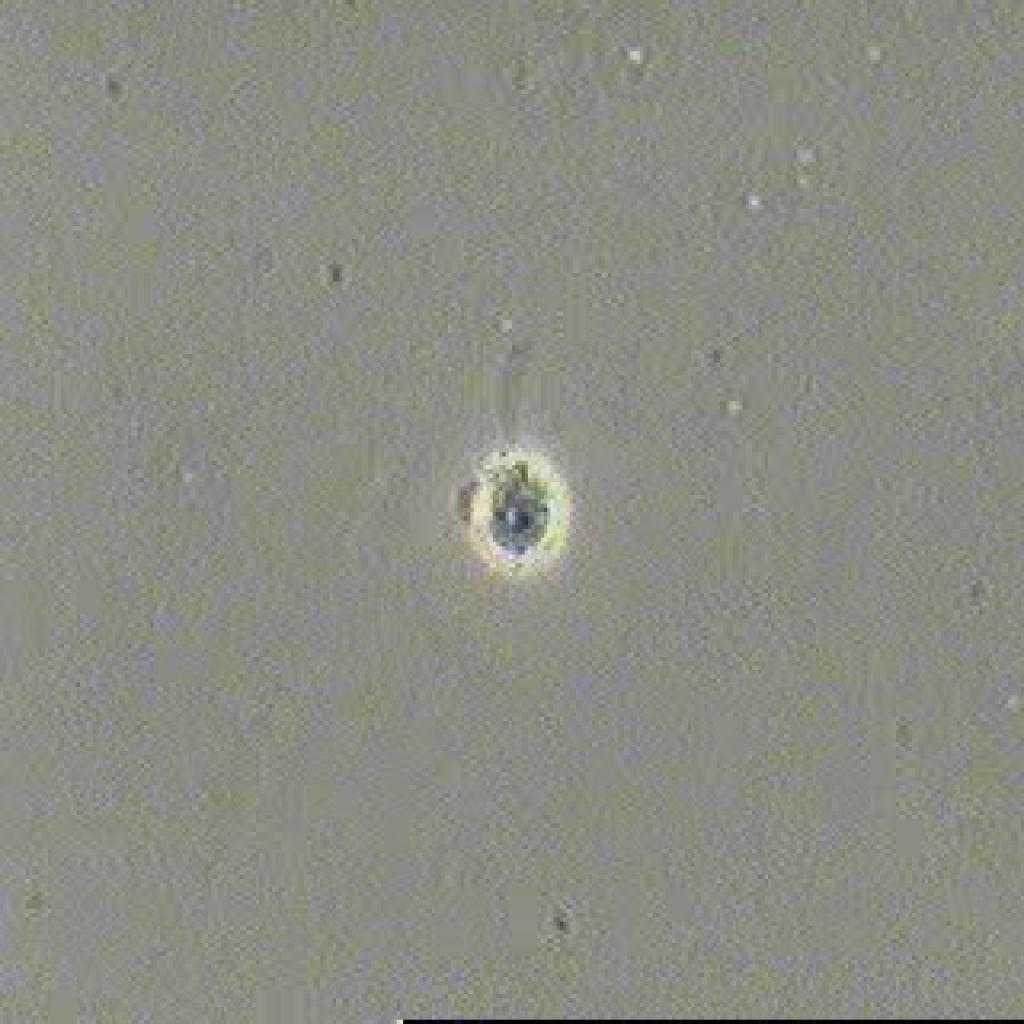Flagellates: (450, 326, 594, 630)
